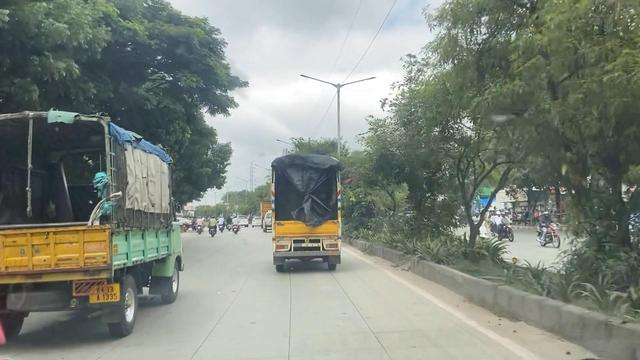HMV: (0, 104, 199, 339), (249, 127, 349, 297)
